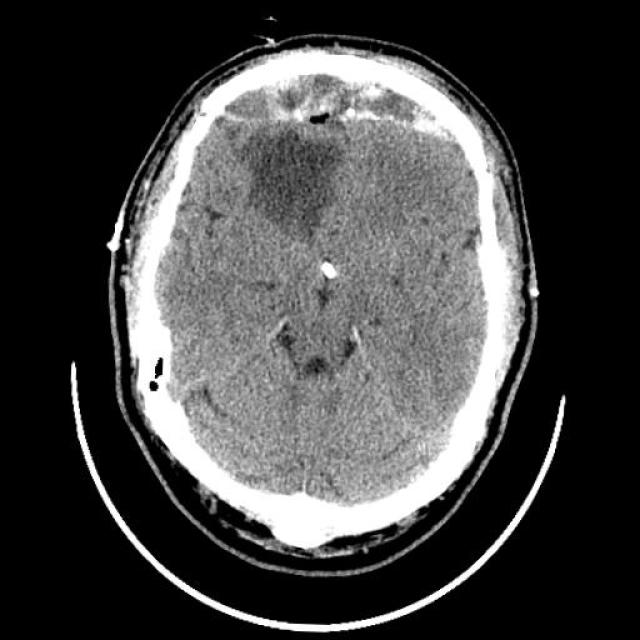Subdural: (197, 49, 493, 143)
